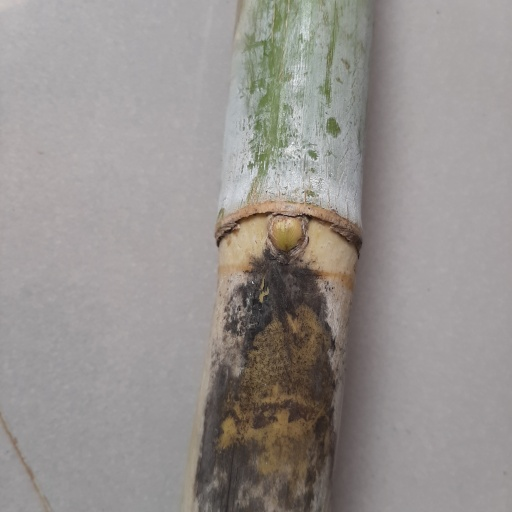Bud: (267, 211, 306, 257)
